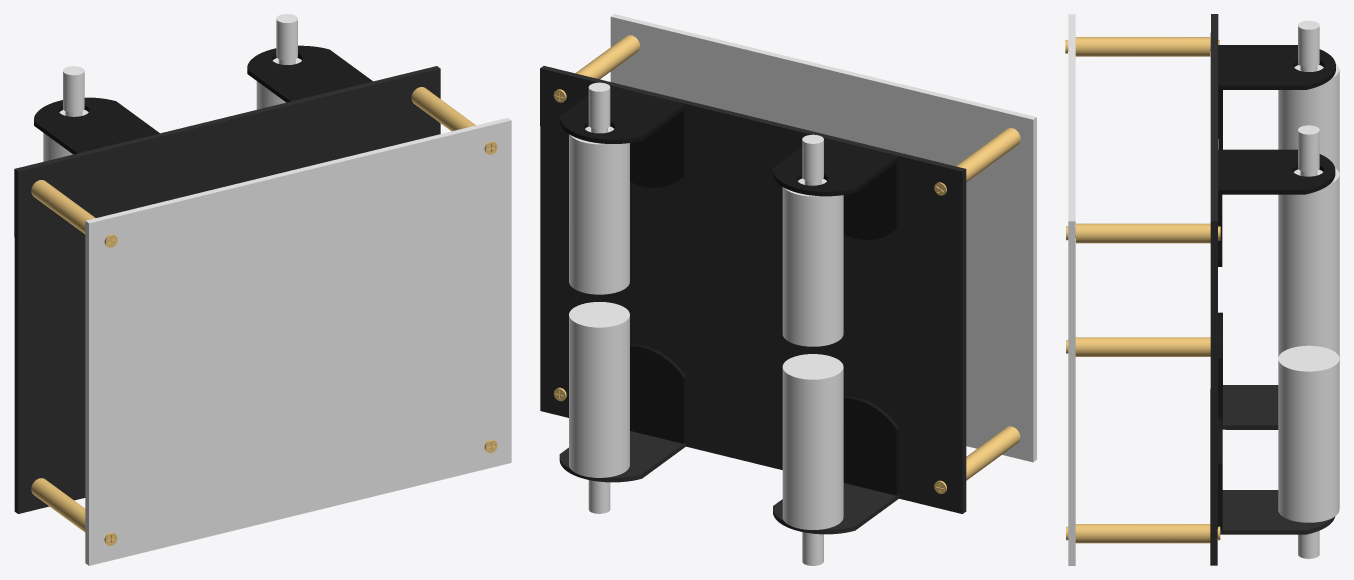
File: chassis.dae
The picture shows the model from 3 angles, left to right: view 1: azimuth 30°, elevation 25°; view 2: azimuth 150°, elevation 25°; view 3: azimuth 270°, elevation 25°; orthographic projection.
Visible parts, largest first — view 1: chassis_(13), chassis_(1), chassis_(3), chassis_(8), chassis_(7), chassis_(2), chassis_(16), chassis_(17), chassis_(14); view 2: chassis_(1), chassis_(13), chassis_(10), chassis_(5), chassis_(2), chassis_(7), chassis_(12), chassis, chassis_(3), chassis_(8), chassis_(4), chassis_(9) (+5 smaller); view 3: chassis_(5), chassis_(7), chassis_(2), chassis_(1), chassis_(8), chassis_(3), chassis_(13), chassis_(6), chassis_(14), chassis_(15), chassis_(16), chassis_(17) (+4 smaller).
Boxes of the visible parts, bbox=[...] form: chassis_(13): bbox=[85, 117, 511, 565]; chassis_(1): bbox=[14, 66, 440, 513]; chassis_(3): bbox=[34, 97, 159, 154]; chassis_(8): bbox=[247, 45, 372, 102]; chassis_(7): bbox=[256, 14, 301, 109]; chassis_(2): bbox=[43, 66, 88, 161]; chassis_(16): bbox=[31, 180, 117, 247]; chassis_(17): bbox=[31, 478, 117, 545]; chassis_(14): bbox=[411, 87, 497, 154]; chassis_(1): bbox=[540, 66, 966, 513]; chassis_(13): bbox=[610, 14, 1036, 462]; chassis_(10): bbox=[782, 354, 843, 565]; chassis_(5): bbox=[569, 302, 629, 513]; chassis_(2): bbox=[782, 134, 843, 346]; chassis_(7): bbox=[569, 82, 629, 294]; chassis_(12): bbox=[843, 396, 899, 495]; chassis: bbox=[630, 344, 685, 443]; chassis_(3): bbox=[773, 137, 899, 196]; chassis_(8): bbox=[560, 85, 686, 143]; chassis_(4): bbox=[843, 161, 899, 239]; chassis_(9): bbox=[630, 109, 686, 187]; chassis_(5): bbox=[1278, 345, 1339, 558]; chassis_(7): bbox=[1278, 125, 1339, 338]; chassis_(2): bbox=[1278, 20, 1339, 173]; chassis_(1): bbox=[1210, 14, 1218, 565]; chassis_(8): bbox=[1218, 149, 1335, 194]; chassis_(3): bbox=[1218, 45, 1335, 89]; chassis_(13): bbox=[1068, 14, 1075, 565]; chassis_(6): bbox=[1220, 490, 1335, 534]; chassis_(14): bbox=[1066, 223, 1220, 243]; chassis_(15): bbox=[1066, 524, 1220, 543]; chassis_(16): bbox=[1065, 37, 1219, 56]; chassis_(17): bbox=[1066, 337, 1210, 356].
Bounding box in the file's own units: 0.2001 × 0.1117 × 0.1909.
